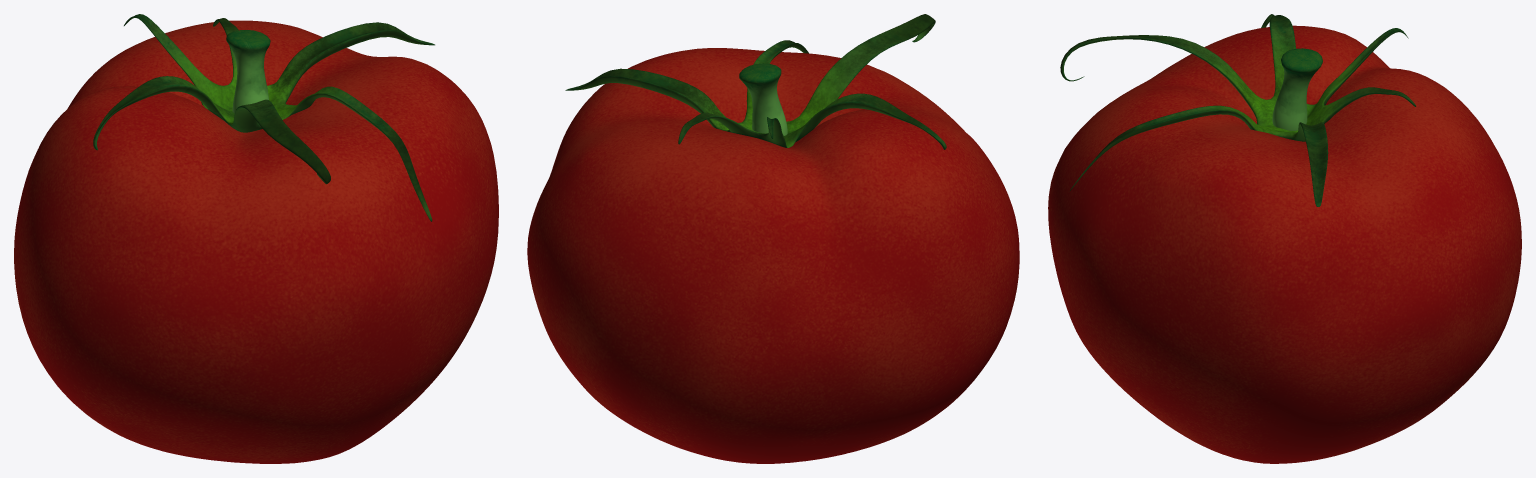
Rendered from tomato.glb.
The picture shows the model from 3 angles, left to right: view 1: azimuth 30°, elevation 25°; view 2: azimuth 150°, elevation 25°; view 3: azimuth 270°, elevation 25°; orthographic projection. The views are drawn at different scales.
Parts seen in each view (by area): view 1: Cube, Cube.002, Cube.001; view 2: Cube, Cube.002, Cube.001; view 3: Cube, Cube.002, Cube.001.
Boxes of the visible parts, x1,y1,x2,y2 form: Cube: [14, 20, 498, 463]; Cube.002: [93, 14, 434, 221]; Cube.001: [226, 30, 270, 113]; Cube: [527, 48, 1019, 463]; Cube.002: [565, 14, 946, 149]; Cube.001: [739, 63, 787, 135]; Cube: [1048, 25, 1521, 463]; Cube.002: [1060, 14, 1415, 206]; Cube.001: [1272, 48, 1322, 130].
Size of the model in its own units: 0.3368 by 0.2981 by 0.3269.
Materials: 3 (3 with a texture image).
